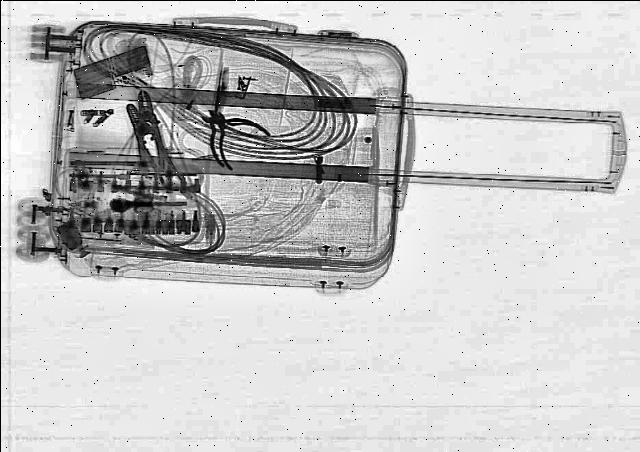Pliers: (180, 101, 282, 171), (178, 99, 280, 168), (115, 102, 189, 190), (130, 90, 170, 176)
